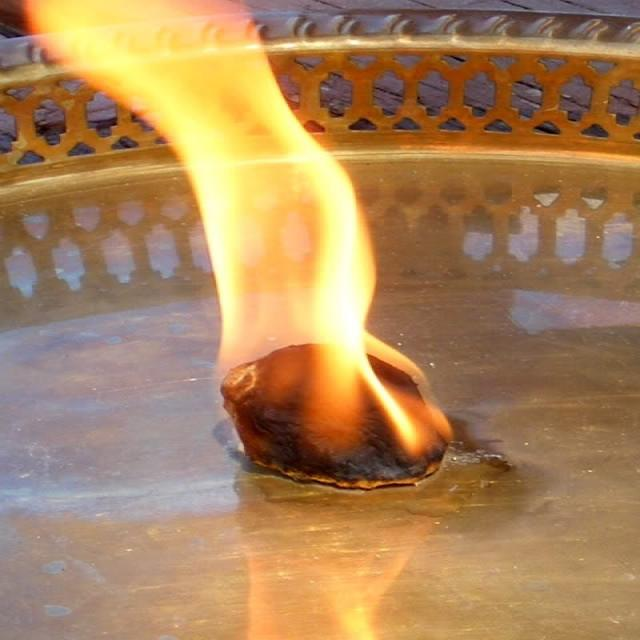fire: (22, 0, 449, 468)
